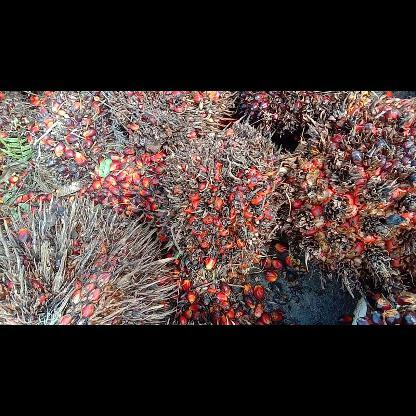Terlalu masak: (284, 90, 414, 300), (144, 119, 298, 288), (0, 195, 181, 325), (102, 90, 240, 158), (238, 90, 350, 136)
